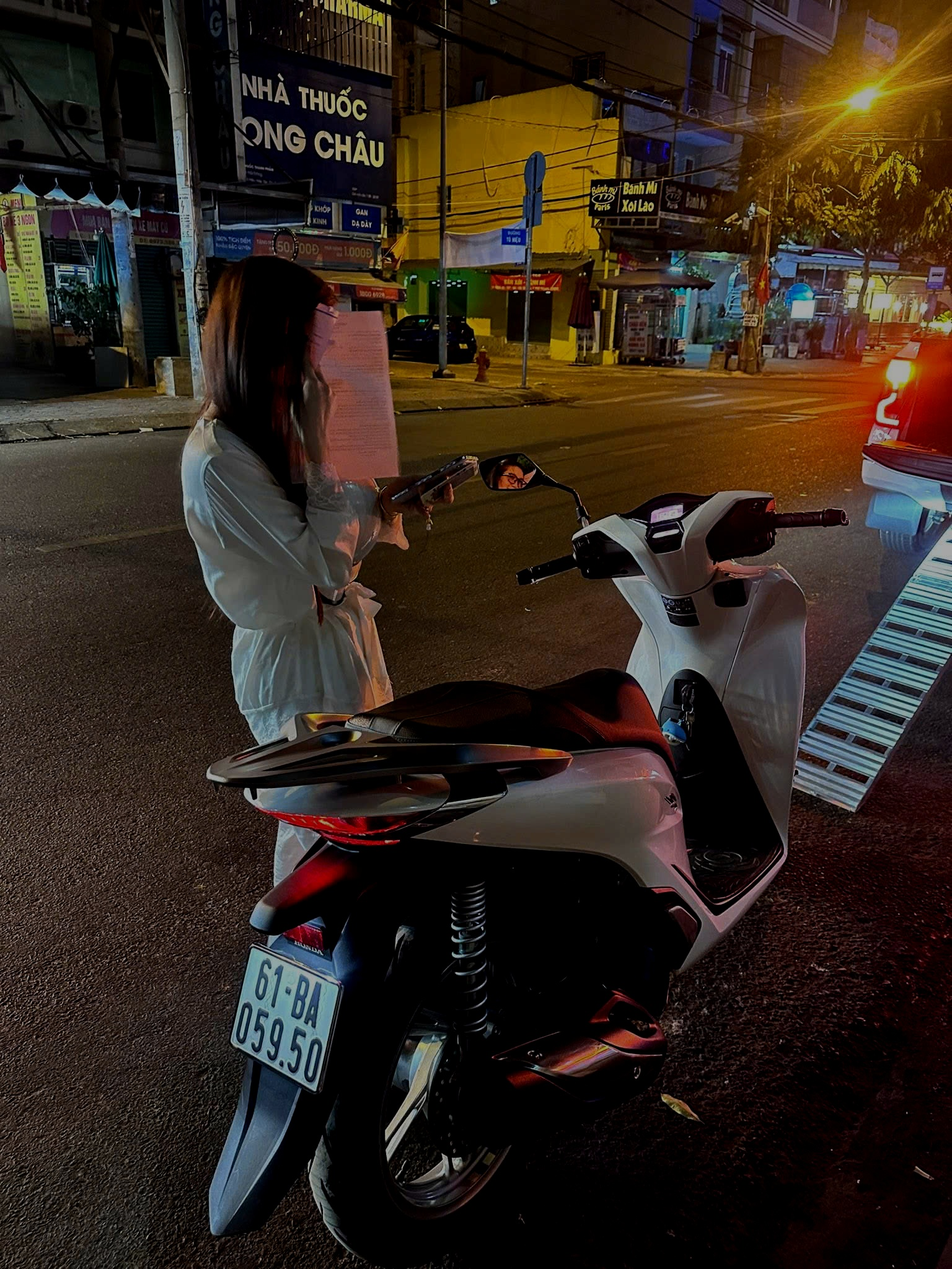Bien-so: (239, 963, 372, 1123)
